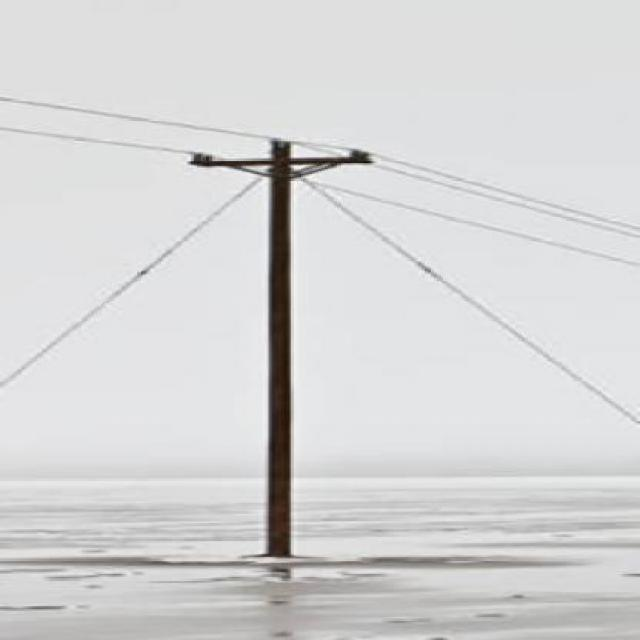pole: (150, 89, 428, 556)
